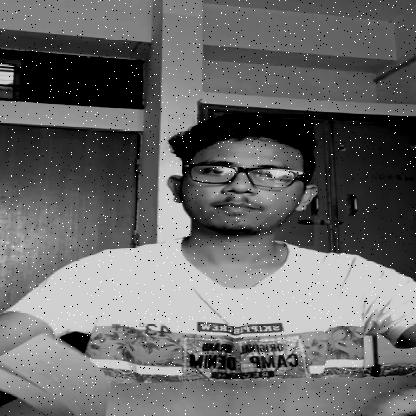Normal: (168, 114, 314, 246)
